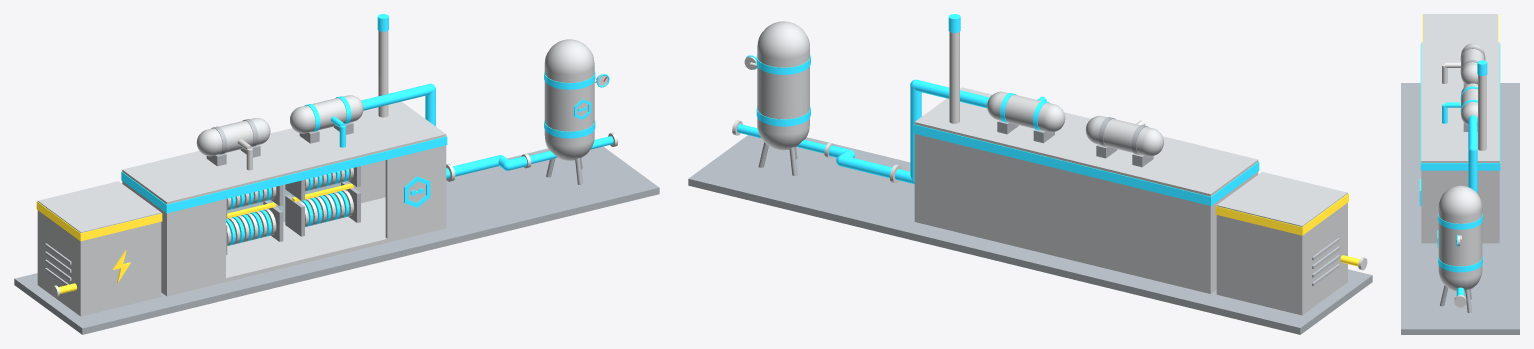
File: ZZE.glb
3 views of the same model, side by side, from view 1: azimuth 30°, elevation 25°; view 2: azimuth 150°, elevation 25°; view 3: azimuth 270°, elevation 25° (orthographic). The views are drawn at different scales.
Visible parts, largest first — view 1: plinth, rectifier, roof, front_wall (×2), floor, vessel, band (×2), o2_separator, h2_separator, pipe (×2), back_wall, end_wall (+2 smaller); view 2: back_wall, plinth, rectifier, roof, vessel, band (×2), pipe (×3), h2_separator, o2_separator, end_wall, vent_stack, floor; view 3: plinth, roof, vessel, end_wall, rectifier, band (×3), back_wall, pipe (×2), vent_stack, o2_separator, h2_separator, leg (×2) (+5 smaller).
Part boxes in pixels (x1=…): plinth: x1=14, y1=146, x2=659, y2=334; rectifier: x1=37, y1=181, x2=161, y2=316; roof: x1=123, y1=103, x2=445, y2=204; front_wall (×2): x1=165, y1=133, x2=446, y2=295; floor: x1=161, y1=197, x2=446, y2=296; vessel: x1=544, y1=39, x2=594, y2=160; band (×2): x1=36, y1=136, x2=447, y2=241; o2_separator: x1=196, y1=118, x2=270, y2=156; h2_separator: x1=290, y1=95, x2=363, y2=133; pipe (×2): x1=361, y1=84, x2=500, y2=176; back_wall: x1=122, y1=101, x2=402, y2=221; end_wall: x1=122, y1=169, x2=169, y2=292; back_wall: x1=914, y1=121, x2=1212, y2=293; plinth: x1=688, y1=135, x2=1372, y2=334; rectifier: x1=1216, y1=172, x2=1347, y2=315; roof: x1=918, y1=88, x2=1258, y2=195; vessel: x1=757, y1=21, x2=809, y2=150; band (×2): x1=913, y1=124, x2=1348, y2=235; pipe (×3): x1=839, y1=79, x2=989, y2=180; h2_separator: x1=987, y1=91, x2=1065, y2=132; o2_separator: x1=1085, y1=115, x2=1163, y2=156; end_wall: x1=1207, y1=159, x2=1258, y2=293; vent_stack: x1=949, y1=32, x2=959, y2=123; floor: x1=914, y1=218, x2=1216, y2=293; plinth: x1=1401, y1=83, x2=1519, y2=334; roof: x1=1421, y1=42, x2=1499, y2=162; vessel: x1=1438, y1=185, x2=1482, y2=291; end_wall: x1=1421, y1=159, x2=1499, y2=242; rectifier: x1=1423, y1=14, x2=1497, y2=41; band (×3): x1=1420, y1=44, x2=1500, y2=272; back_wall: x1=1496, y1=42, x2=1499, y2=243; pipe (×2): x1=1468, y1=115, x2=1477, y2=193; vent_stack: x1=1478, y1=75, x2=1486, y2=150; o2_separator: x1=1461, y1=43, x2=1484, y2=84; h2_separator: x1=1461, y1=83, x2=1477, y2=125; leg (×2): x1=1440, y1=285, x2=1471, y2=313.
Size of the model in its own units: 18.92 by 6.15 by 3.8.
